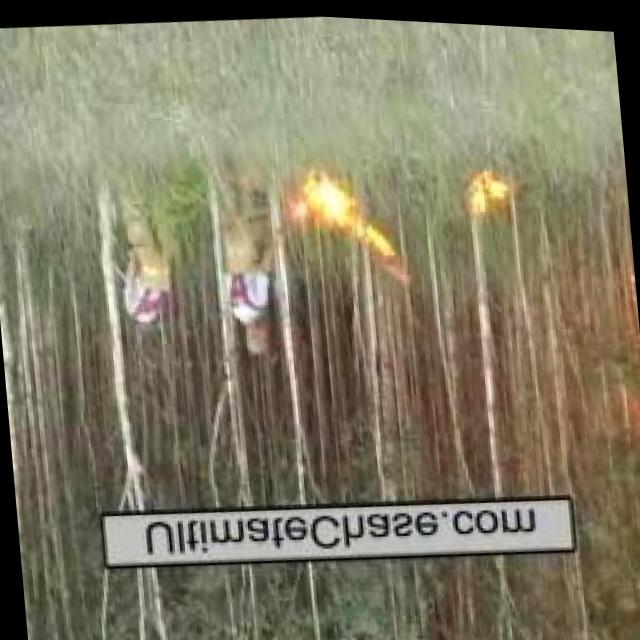Fire: (290, 162, 398, 255), (464, 151, 512, 208)
